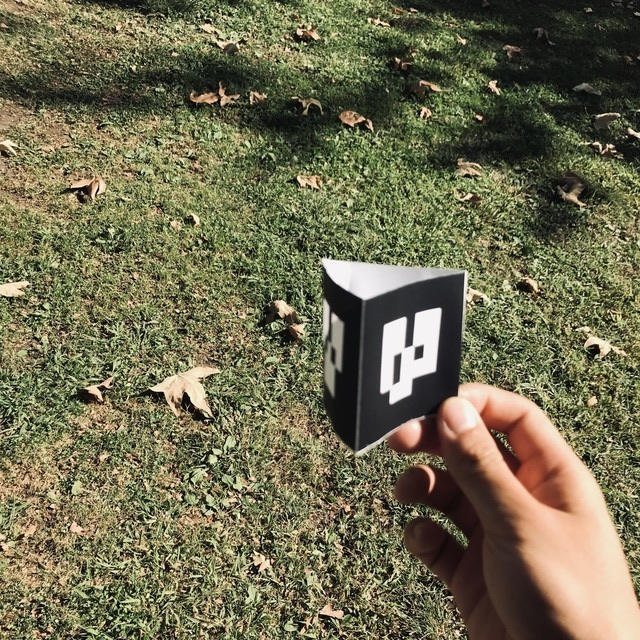ARTag: (321, 258, 467, 454)
